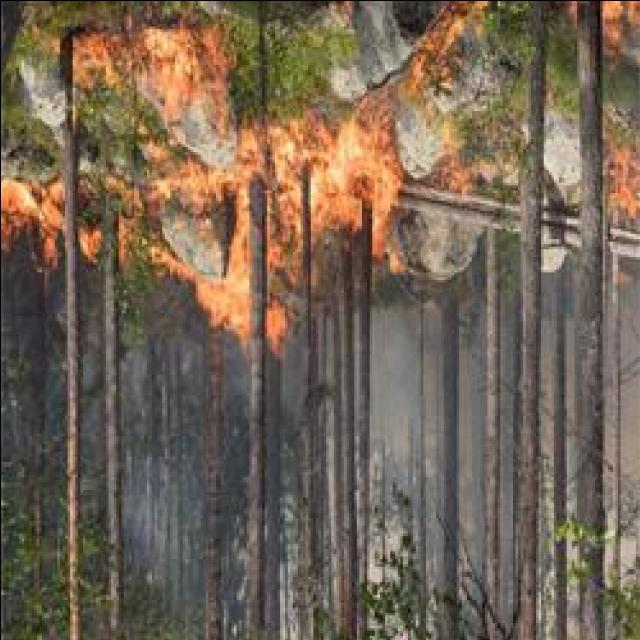fire: (184, 220, 299, 340), (269, 125, 398, 223)
